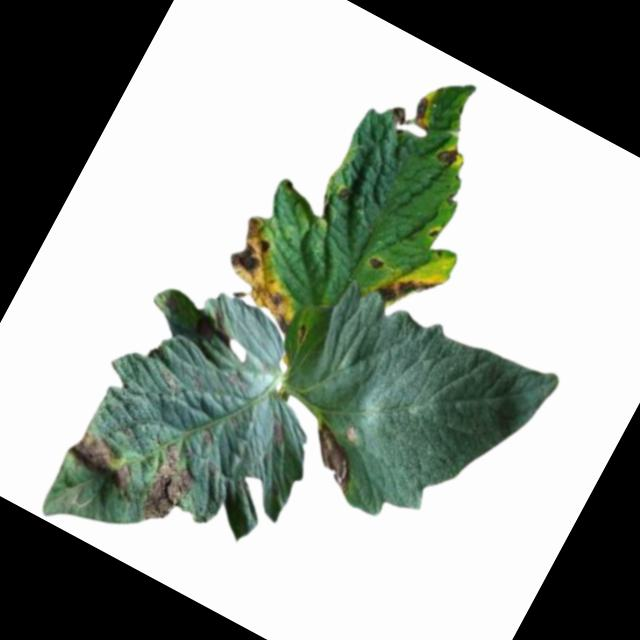Early_blight: (209, 214, 337, 339), (131, 436, 209, 531), (61, 419, 154, 498), (293, 416, 376, 500), (372, 255, 448, 324), (386, 82, 438, 136), (433, 139, 466, 171), (368, 250, 390, 272)
